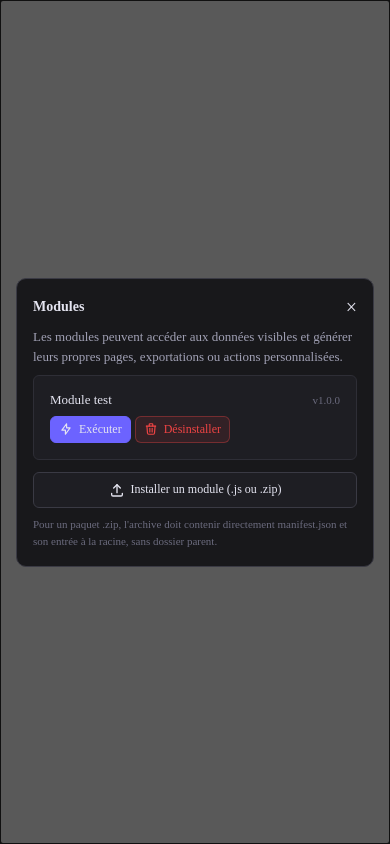
Test case: ModulesPanel › laisse le panneau ouvert si le navigateur bloque l'ouverture du module
Click the button with aria-label "Exécuter Module test" at (90, 429), box [50,416,131,442]
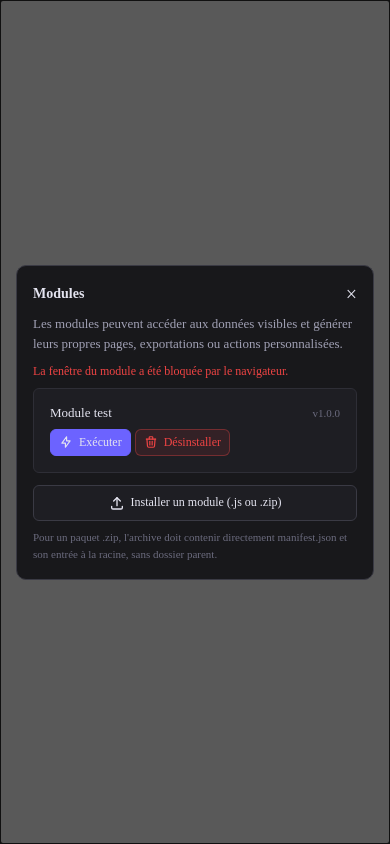
Now the text "La fenêtre du module a été bloquée par le navigateur." is shown, box [33,364,288,378]
